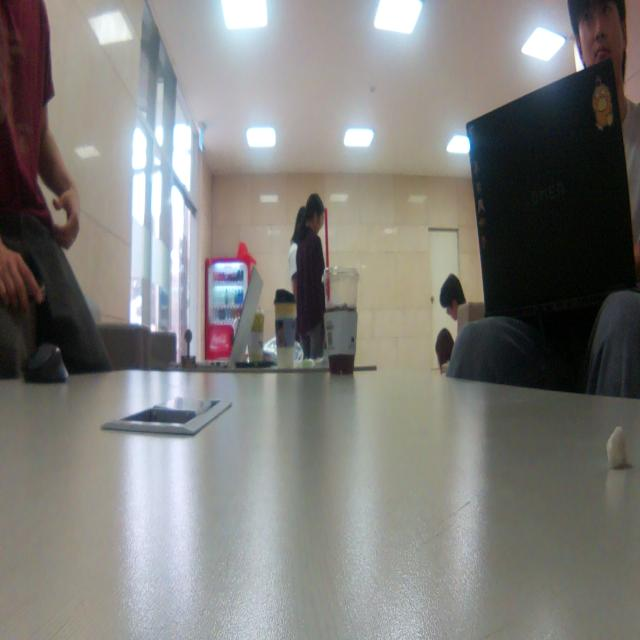target: (181, 329, 196, 371)
